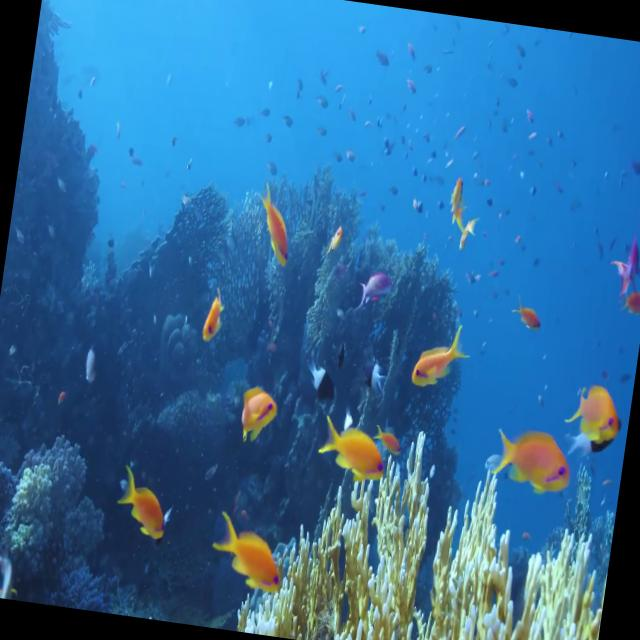fish: (204, 500, 292, 599), (488, 417, 580, 505), (310, 408, 402, 494), (244, 172, 316, 280), (405, 304, 484, 402), (108, 458, 182, 559), (560, 376, 628, 459), (225, 367, 280, 456), (192, 269, 236, 354), (350, 250, 400, 318), (297, 352, 347, 410), (438, 169, 478, 236), (606, 237, 640, 310), (508, 291, 548, 343), (320, 212, 360, 263), (75, 339, 106, 394), (450, 206, 484, 256), (0, 528, 19, 600)
